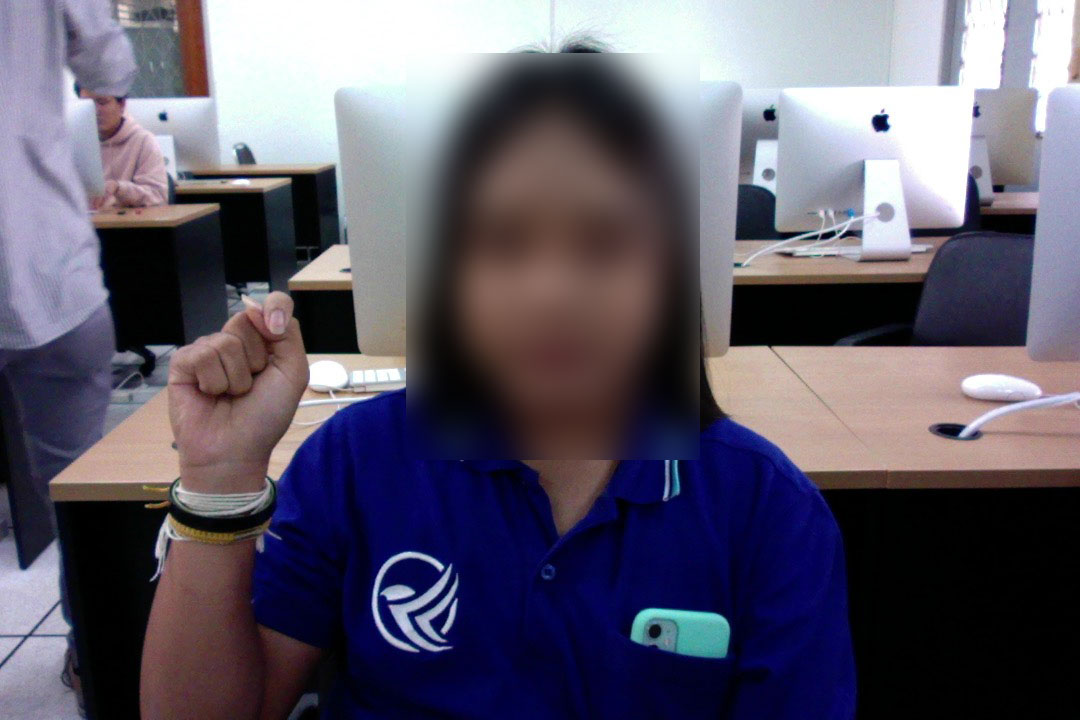tor: (151, 284, 320, 506)
